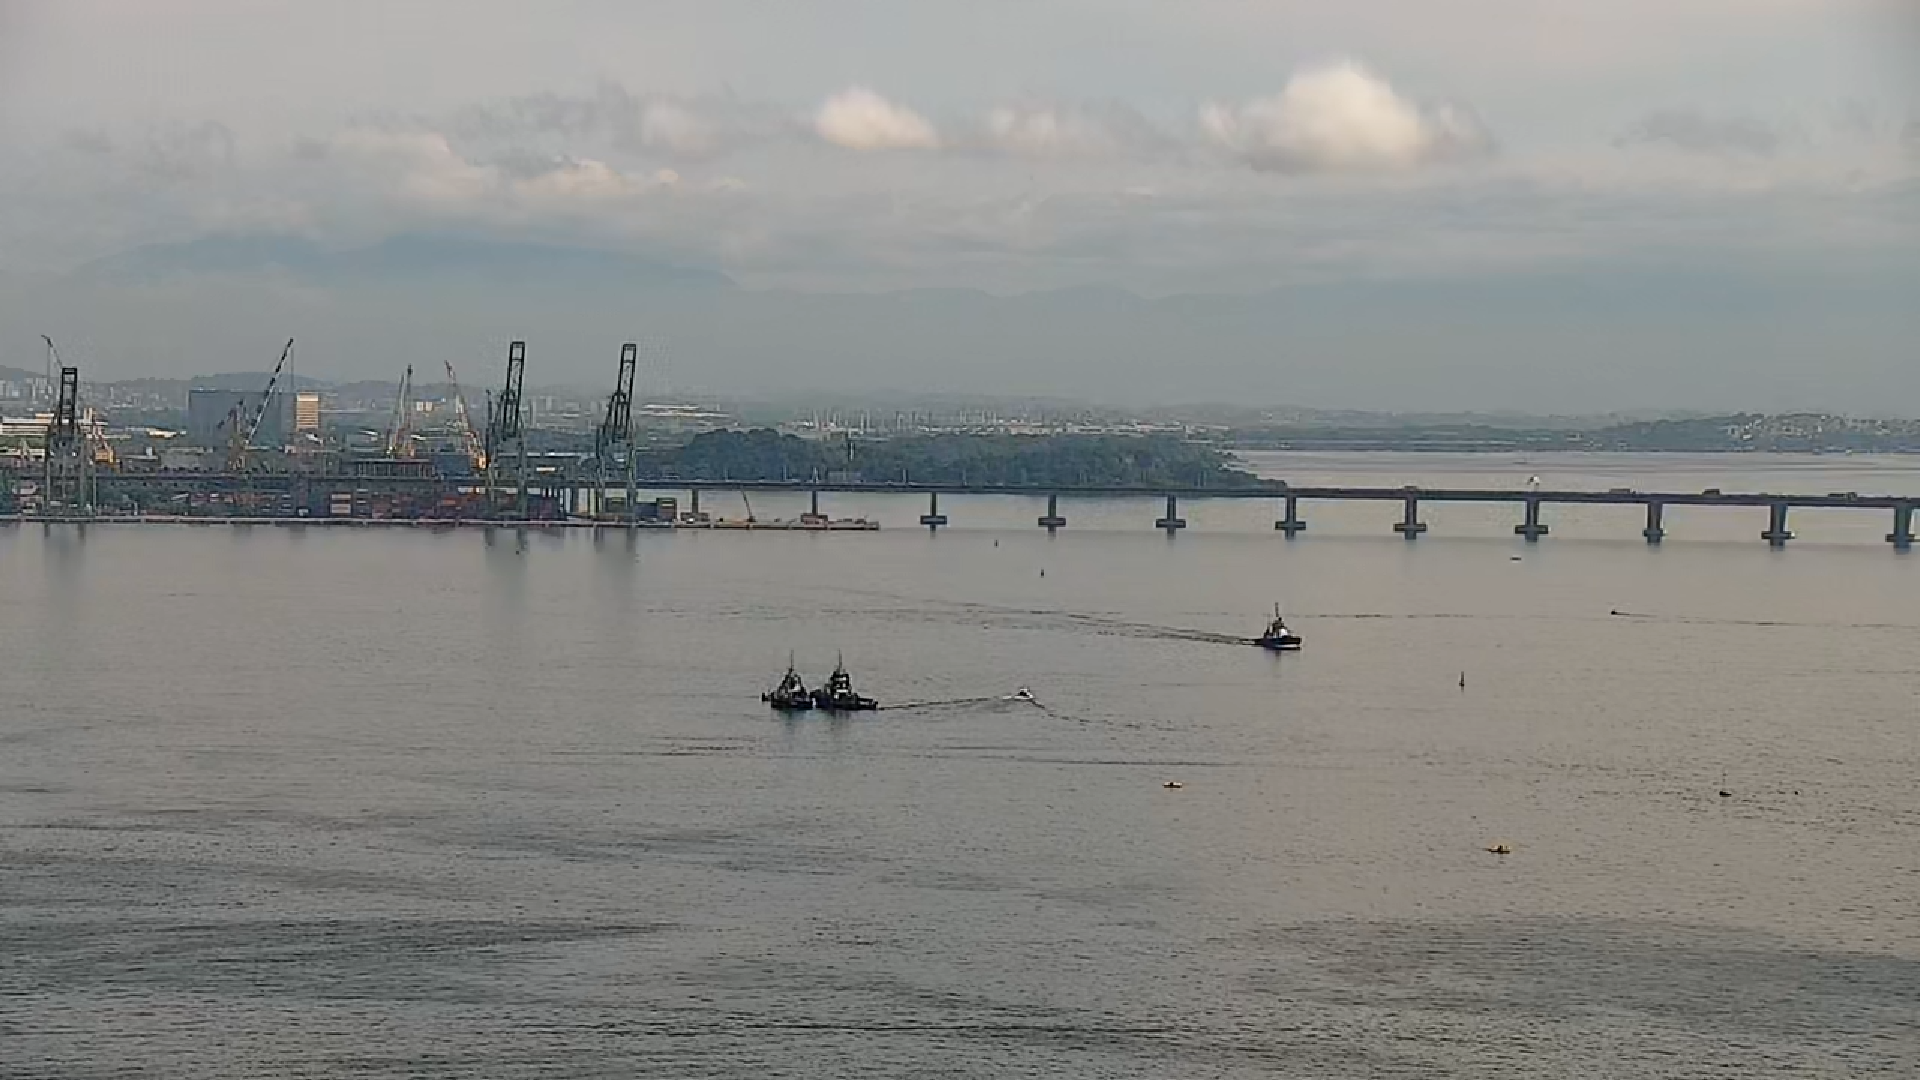Ship6: (1011, 680, 1036, 705)
Ship7: (816, 647, 864, 715), (764, 649, 815, 711), (1259, 596, 1303, 651)
